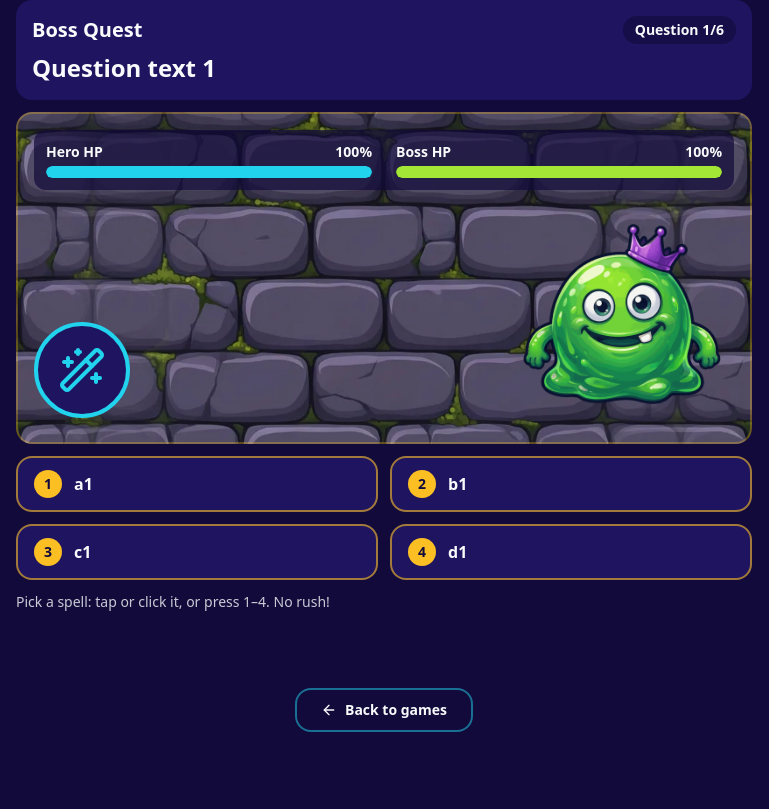
Test: a correct spell hits the boss and advances to the next question
What coordinates should you click on to do the following:
click the button with test id "spell"
I would click on:
 (48, 484)
Its box is 16,456 -> 378,512.
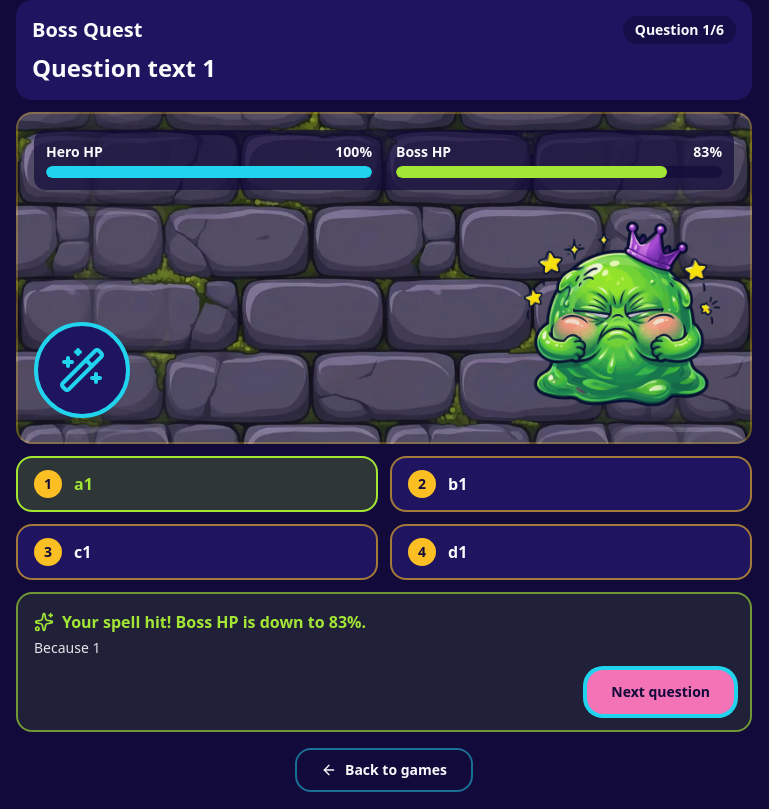
Check: the text "Your spell hit! Boss HP is down to 83%." is shown, box 34,611 -> 366,633
Check: the text "Because 1" is shown, box 34,638 -> 100,657
What coordinates should you click on to do the following:
click the button "Next question"
I would click on:
 (661, 692)
Its box is 587,670 -> 734,714.
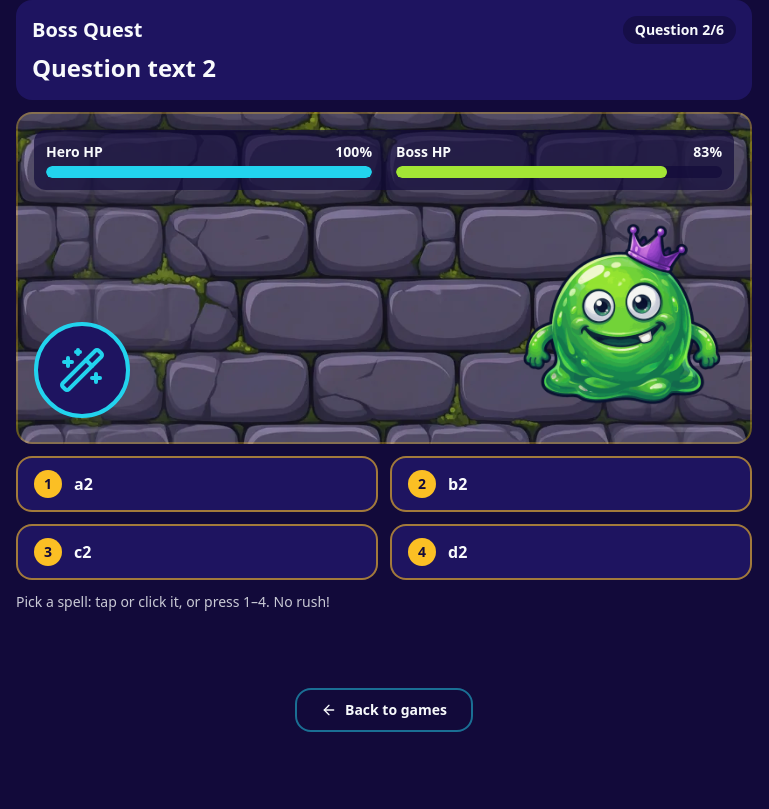
Check: the text "Question 2/6" is shown, box 623,16 -> 736,44
